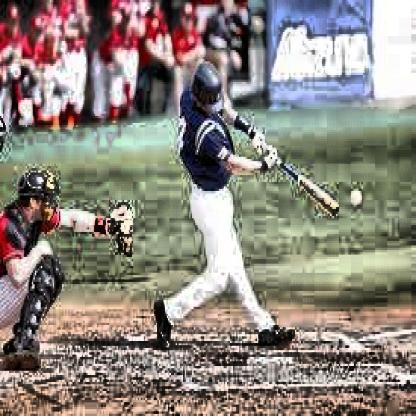baseball: (348, 188, 365, 211)
